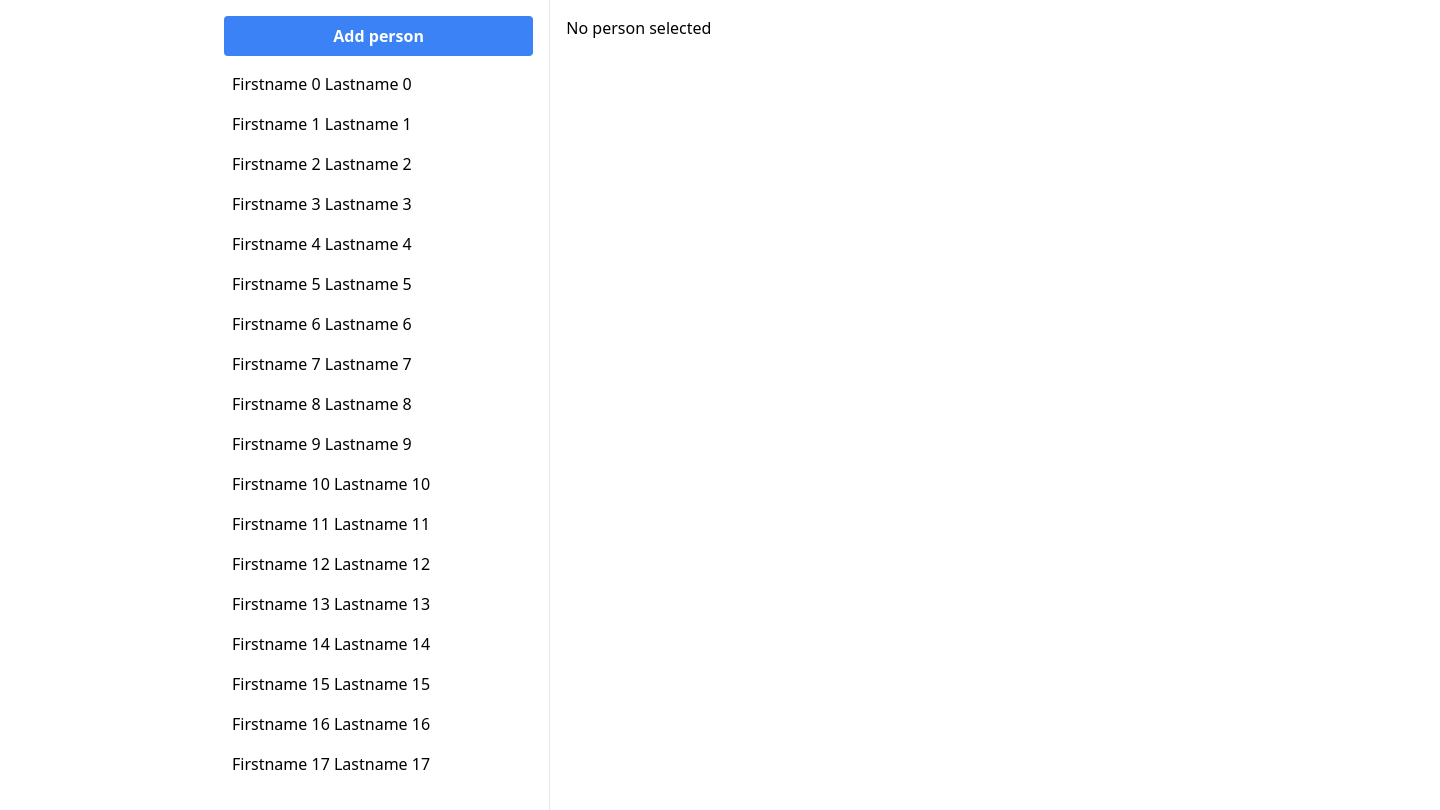
Scenario: App › should delete a person
Expected: the element with test id "person-list-container" shows "Firstname 0", [232,73,321,95]
Click the list item "Firstname 0 Lastname 0".
click(322, 84)  # box [232,73,412,95]
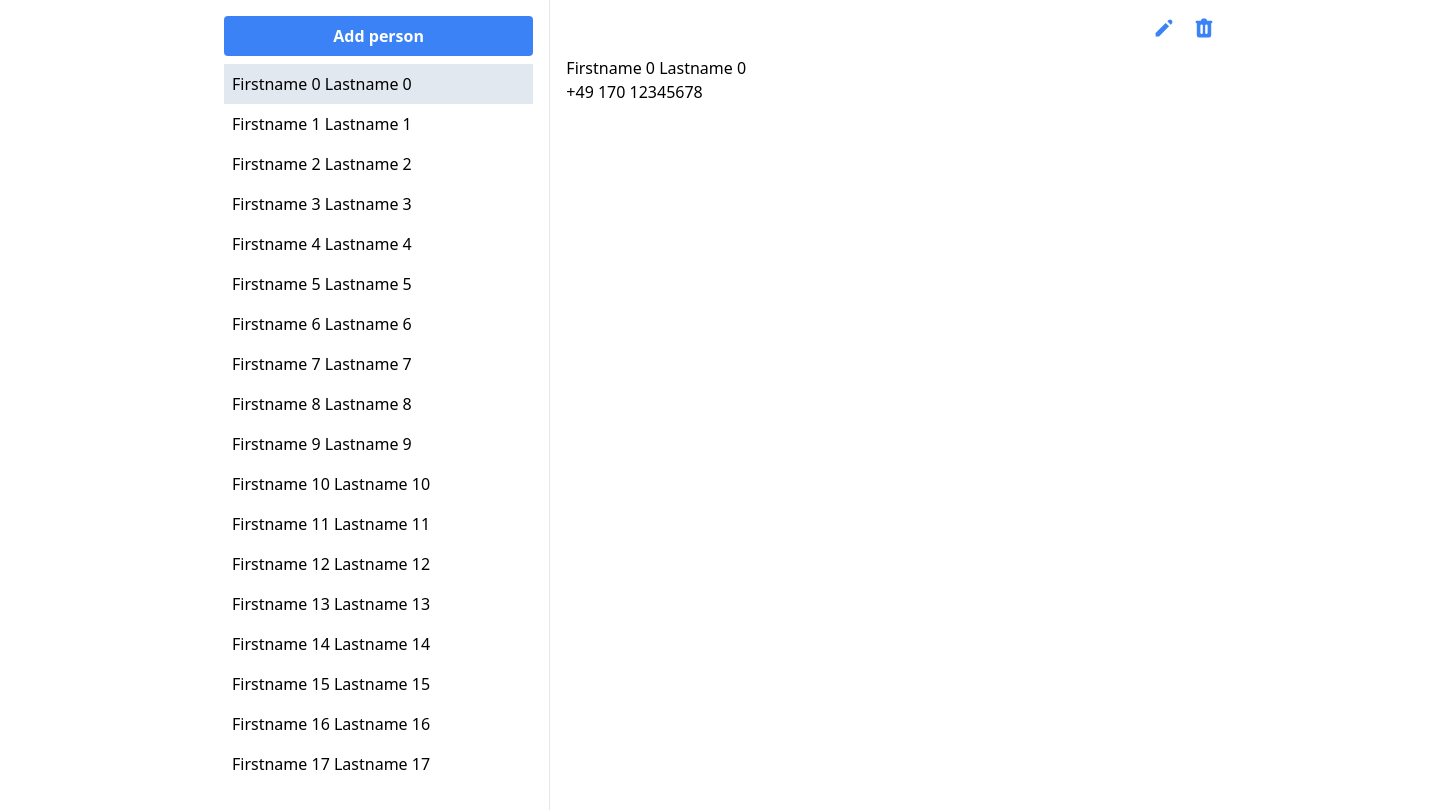
Click the button with test id "delete-person".
click(1204, 28)  # box [1192,16,1216,40]
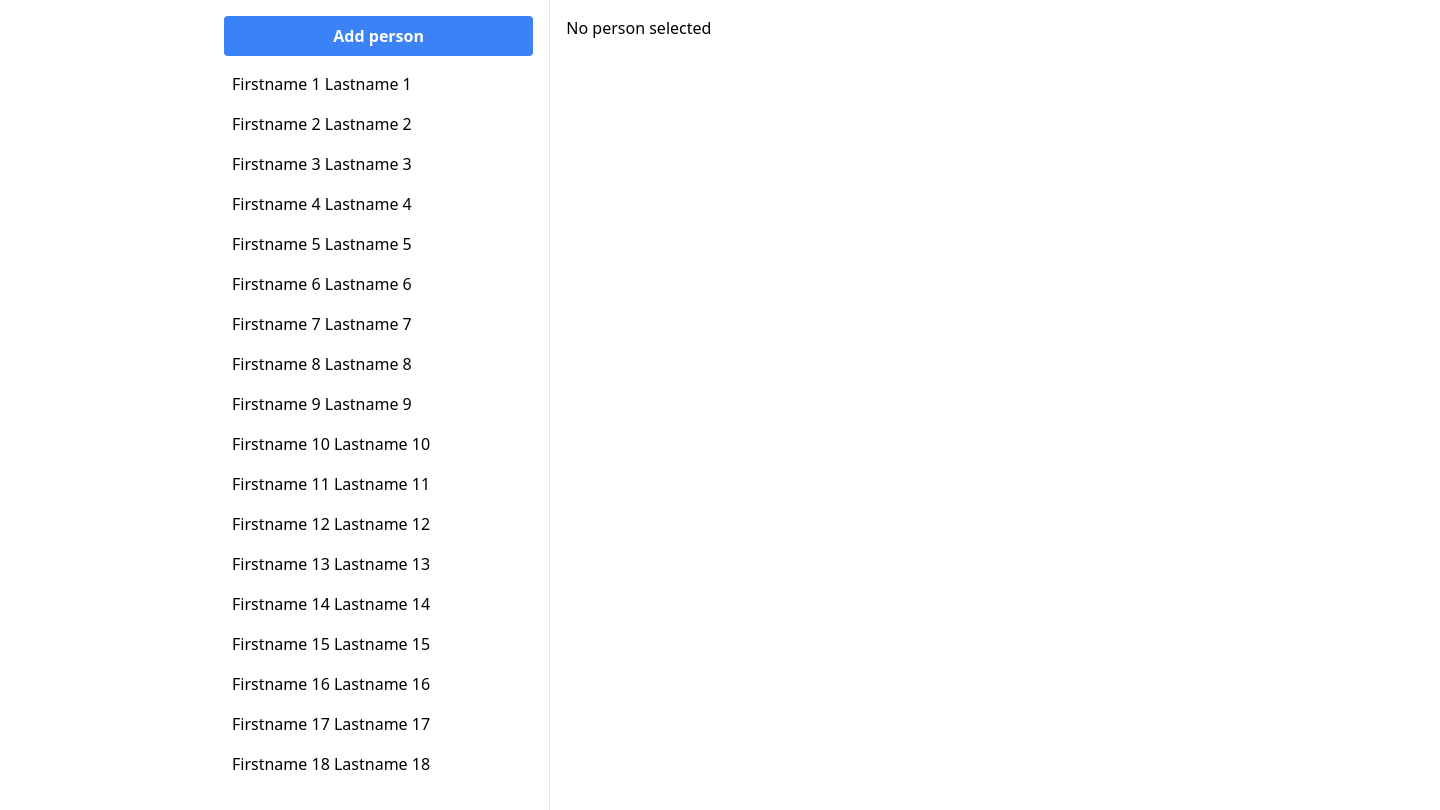
Expected: the element with test id "person-list-container" no longer shows "Firstname 0", [208,0,549,809]
